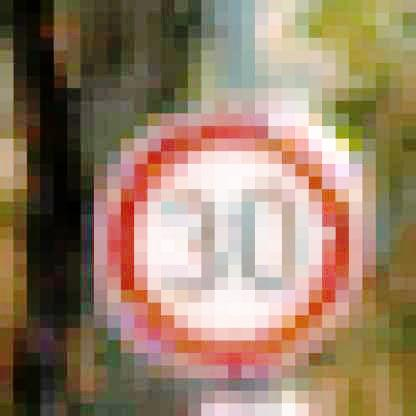Speed Limit -30-: (98, 105, 370, 378)
